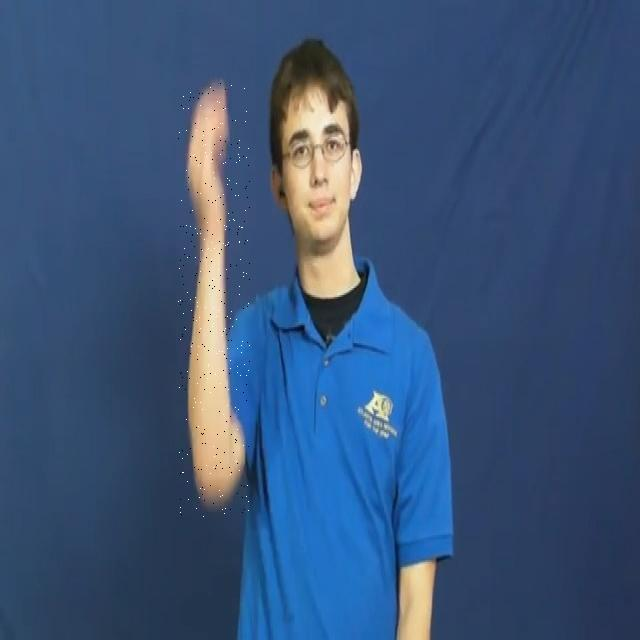lettuce: (178, 82, 250, 518)
